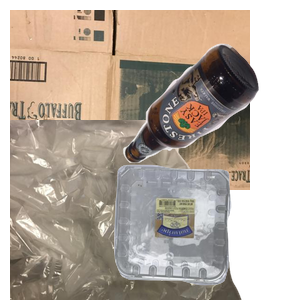cardboard: (10, 10, 250, 190)
glass: (120, 41, 300, 196)
plastic: (112, 162, 300, 300)
trash: (10, 120, 244, 300)
